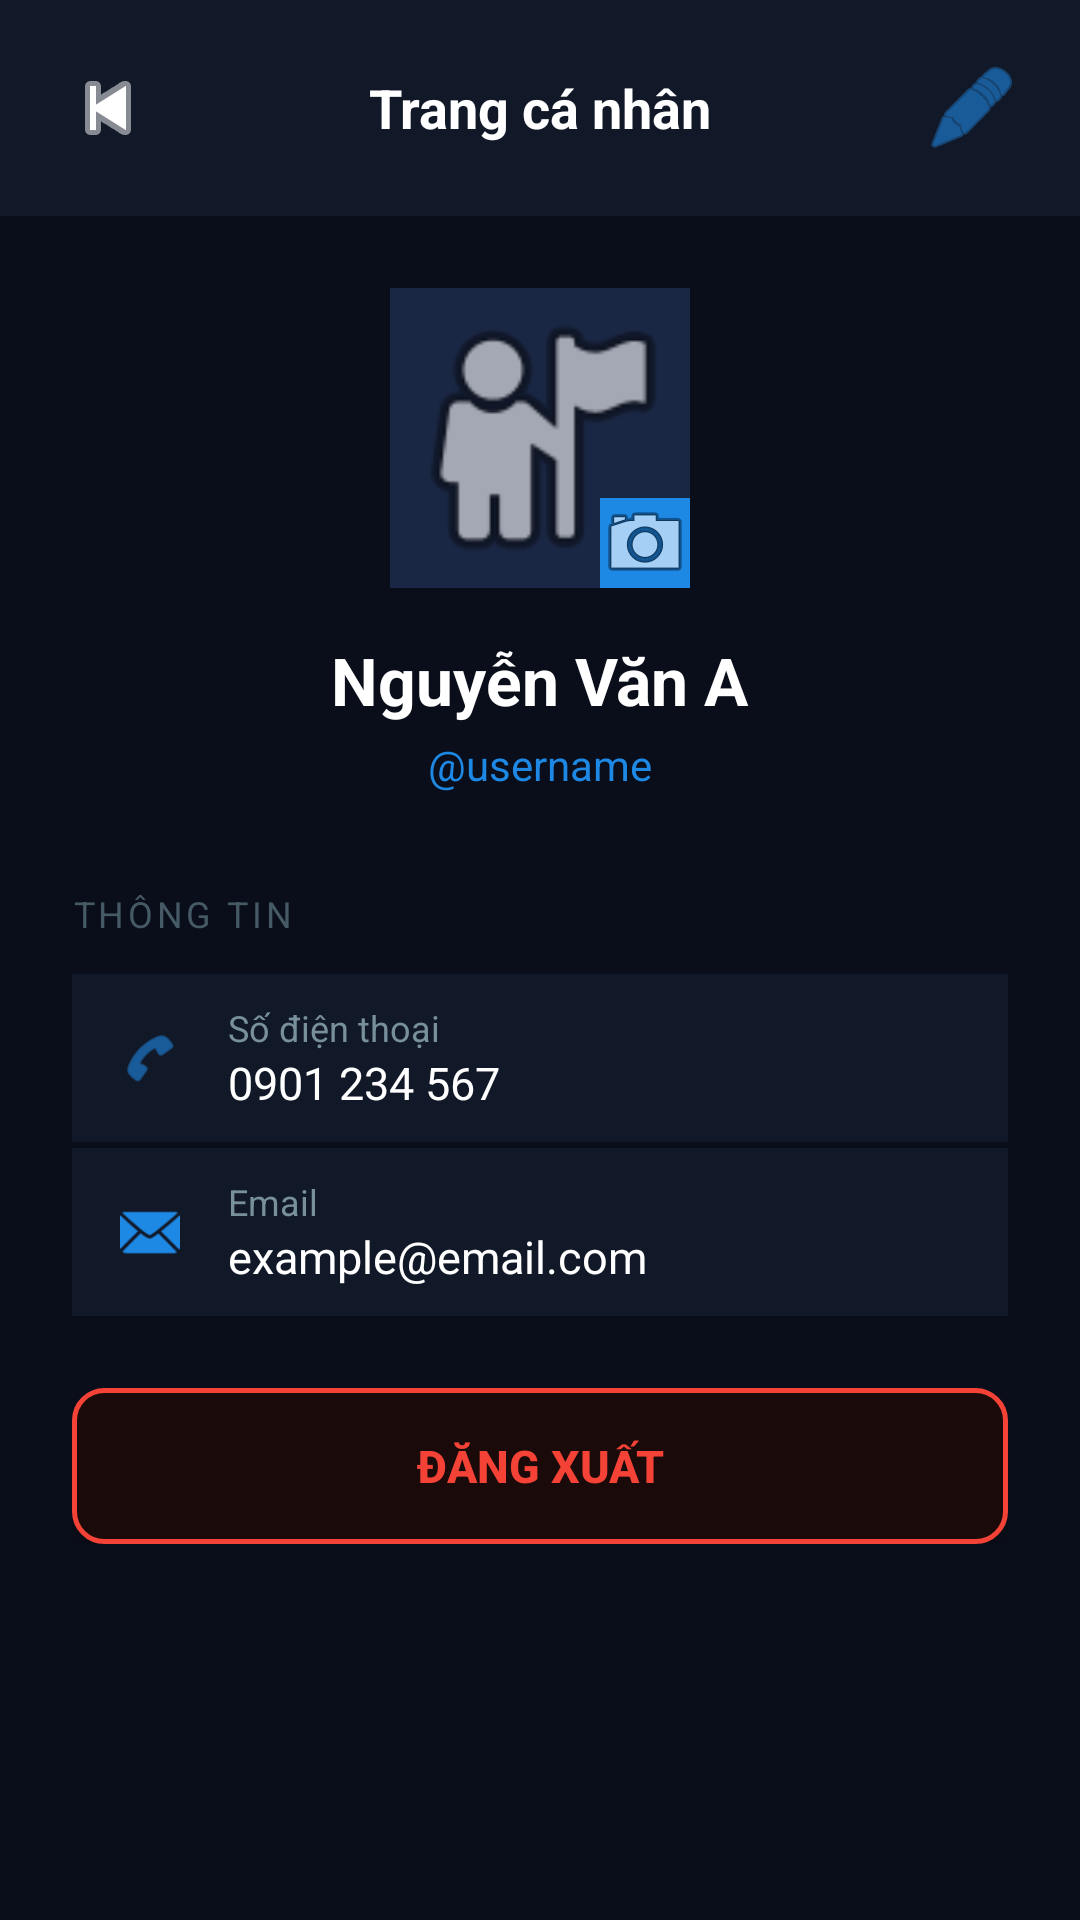

Icons on this 1080x1920 Android screen, each with the point to tap as point (x, y):
call: point (150, 1058)
edit: point (971, 107)
previous: point (108, 108)
